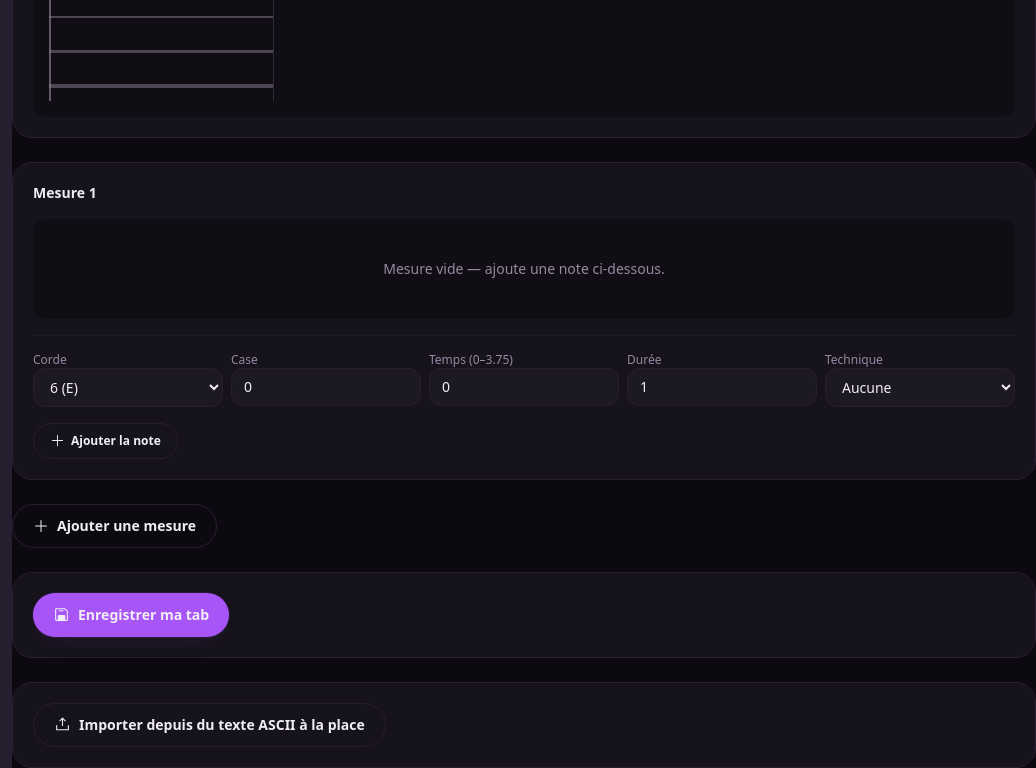
TabCreatorPage › removing a note takes it out of the measure
(page scrolled)
What coordinates should you click on to do the following:
click the button "Ajouter la note"
I would click on:
 (105, 440)
Its box is x1=33 y1=422 x2=178 y2=458.
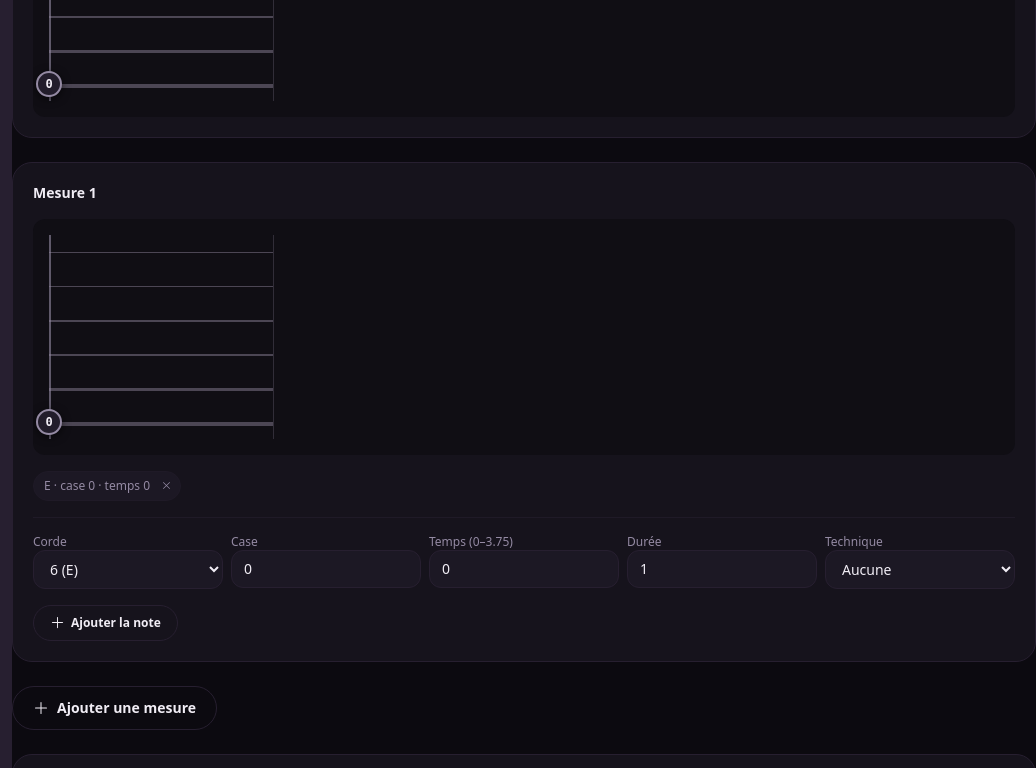
What coordinates should you click on to do the following:
click the button named "supprimer cette note"
I would click on:
 (166, 486)
Its box is x1=156 y1=476 x2=176 y2=496.
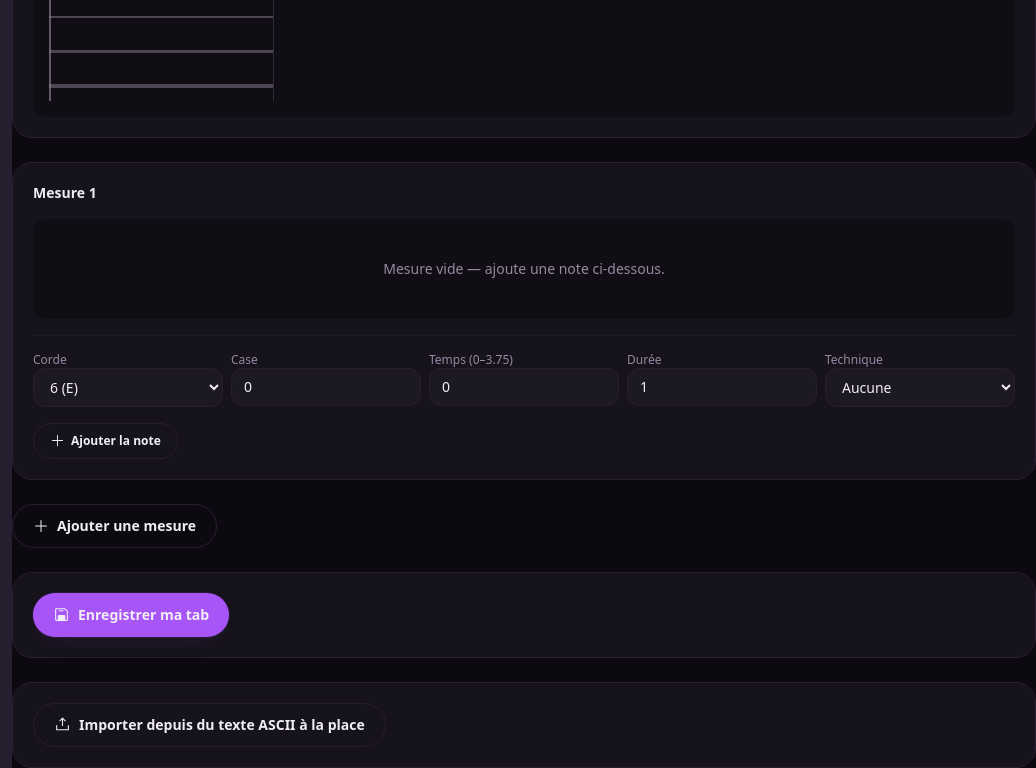
Result: the text "case 0" is gone
